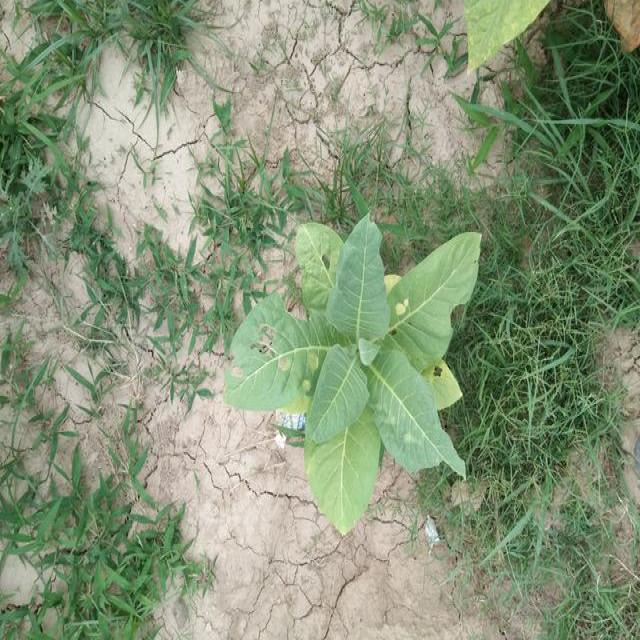crop: (223, 197, 484, 523)
